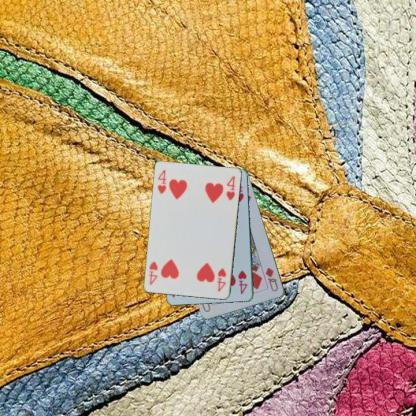4h: (236, 268, 248, 296), (156, 168, 168, 196), (216, 266, 228, 293)
Qd: (263, 264, 280, 294)
